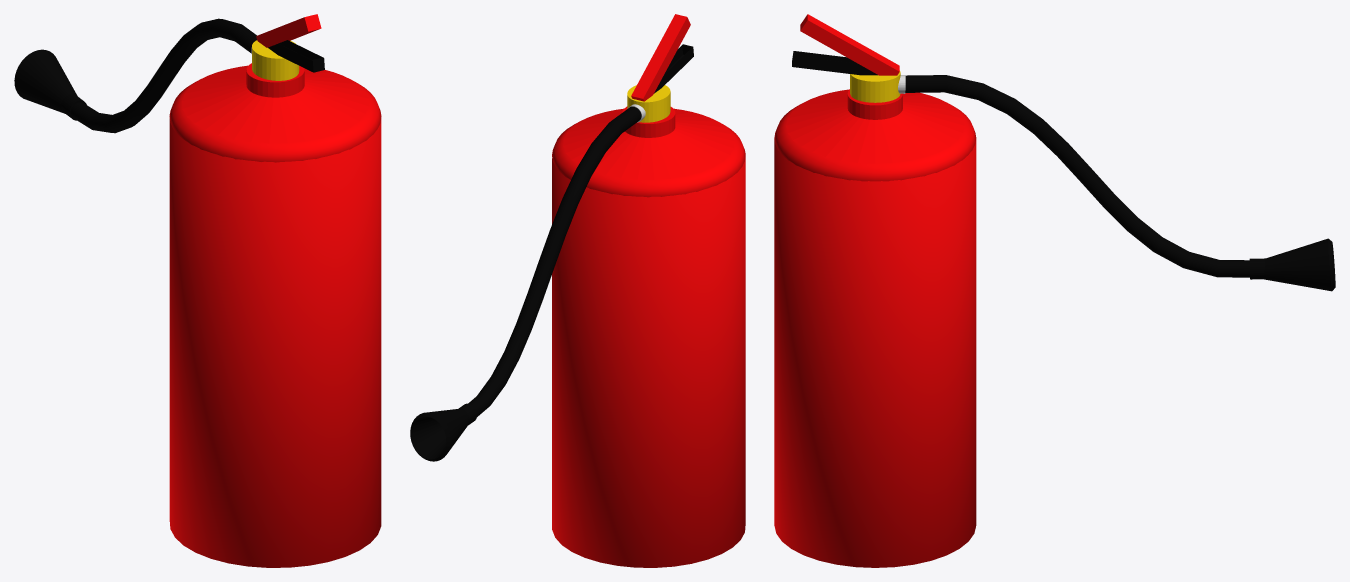
File: BrandslukkerAktiv.fbx
The picture shows the model from 3 angles, left to right: view 1: azimuth 30°, elevation 25°; view 2: azimuth 150°, elevation 25°; view 3: azimuth 270°, elevation 25°; orthographic projection. The views are drawn at different scales.
Parts seen in each view (by area): view 1: Cylinder, Cone, Torus, BezierCurve, Cone.001, Cylinder.002, Cylinder.001, Cube, Cube.001; view 2: Cylinder, Cone, BezierCurve, Torus, Cone.001, Cube, Cylinder.002, Cylinder.001, Cube.001; view 3: Cylinder, Cone, BezierCurve, Torus, Cone.001, Cube, Cylinder.002, Cube.001, Cylinder.001.
Part boxes in pixels (bbox=[...]): Cylinder: bbox=[169, 114, 381, 567]; Cone: bbox=[181, 66, 369, 143]; Torus: bbox=[169, 65, 381, 162]; BezierCurve: bbox=[70, 18, 256, 133]; Cone.001: bbox=[14, 49, 77, 113]; Cylinder.002: bbox=[252, 40, 299, 80]; Cylinder.001: bbox=[246, 63, 304, 97]; Cube: bbox=[256, 14, 321, 47]; Cube.001: bbox=[268, 40, 324, 72]; Cylinder: bbox=[552, 153, 745, 567]; Cone: bbox=[563, 109, 734, 179]; BezierCurve: bbox=[468, 106, 641, 416]; Torus: bbox=[552, 108, 745, 197]; Cone.001: bbox=[410, 408, 469, 461]; Cube: bbox=[631, 14, 690, 101]; Cylinder.002: bbox=[627, 85, 670, 122]; Cylinder.001: bbox=[622, 106, 675, 137]; Cube.001: bbox=[654, 44, 693, 93]; Cylinder: bbox=[774, 139, 976, 567]; Cone: bbox=[786, 90, 964, 163]; BezierCurve: bbox=[905, 75, 1249, 277]; Torus: bbox=[774, 89, 976, 181]; Cone.001: bbox=[1263, 238, 1335, 291]; Cube: bbox=[800, 14, 899, 75]; Cylinder.002: bbox=[850, 70, 900, 102]; Cube.001: bbox=[792, 51, 877, 75]; Cylinder.001: bbox=[847, 89, 902, 119].
Bounding box in the file's own units: 138 × 382 × 383.
